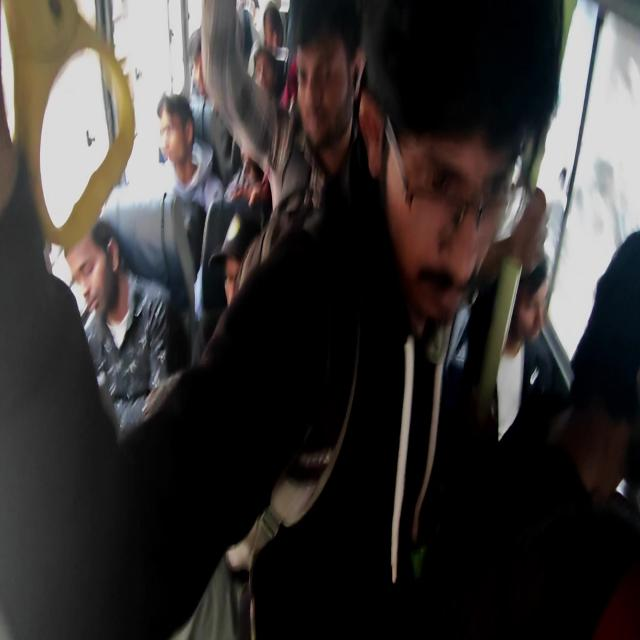person: (118, 1, 565, 637), (496, 228, 639, 638), (69, 218, 174, 440), (156, 92, 224, 214)
